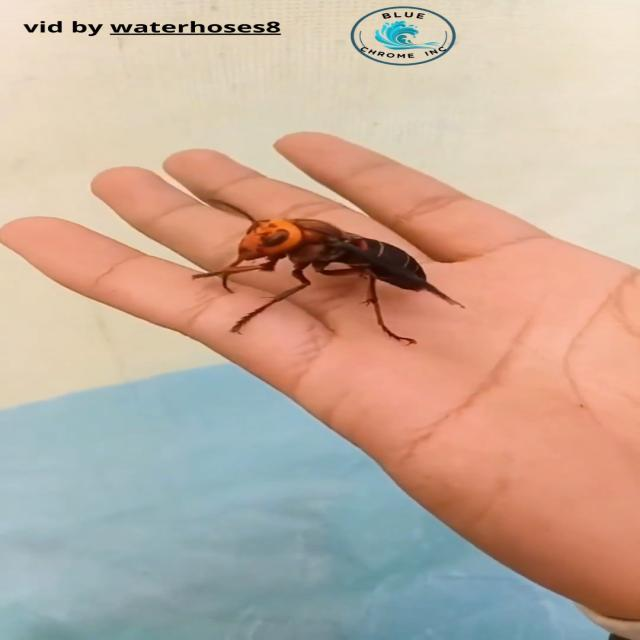Hornets: (188, 196, 471, 347)
